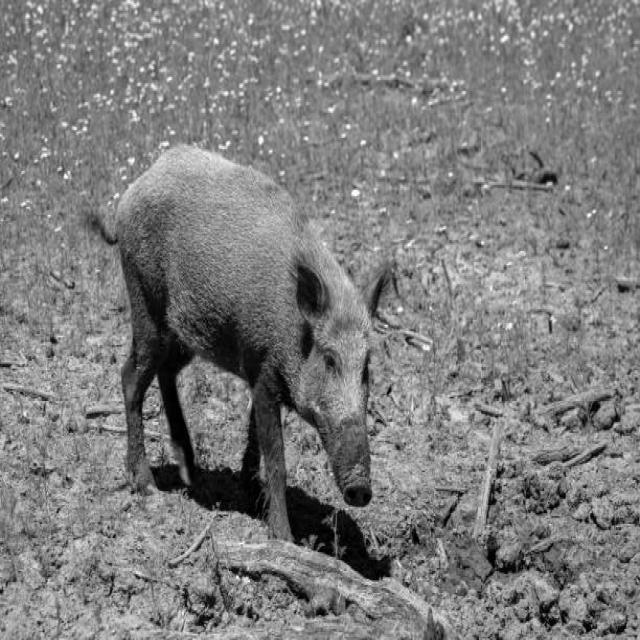boar: (115, 144, 389, 536)
